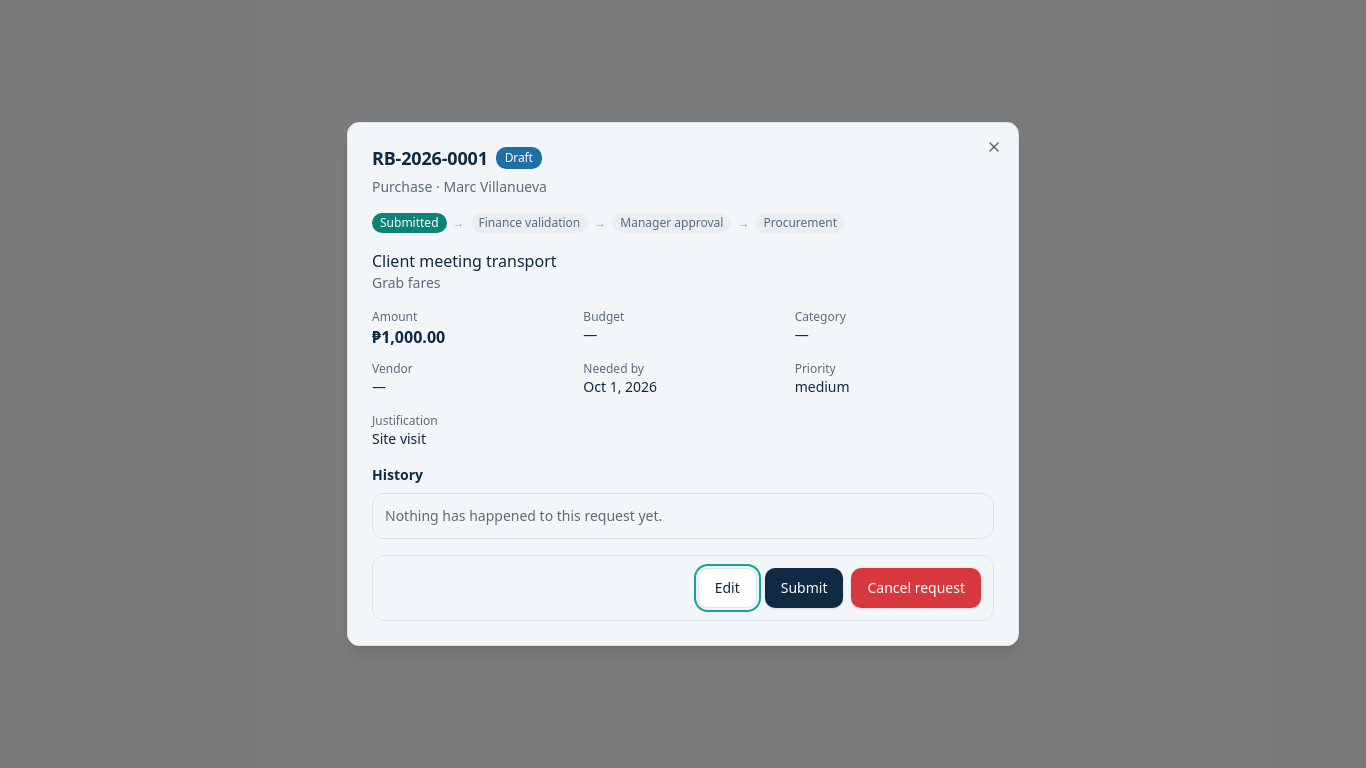
Test: correcting a draft › does not offer a purchase a date the money was already spent
This screenshot has width=1366, height=768.
Click the button "Edit": (727, 588) [698,568,757,608]
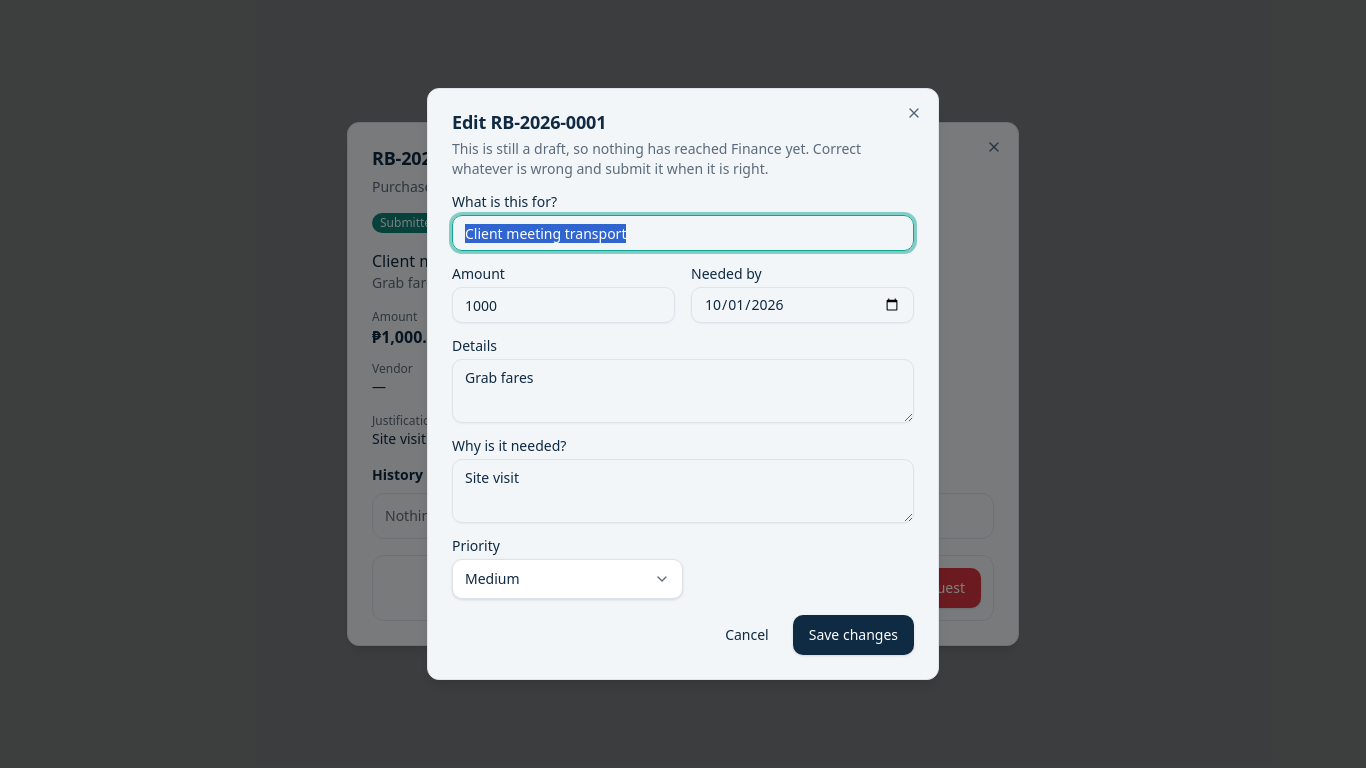
Result: the date field labelled "Needed by" is shown at [691,287,914,323]
